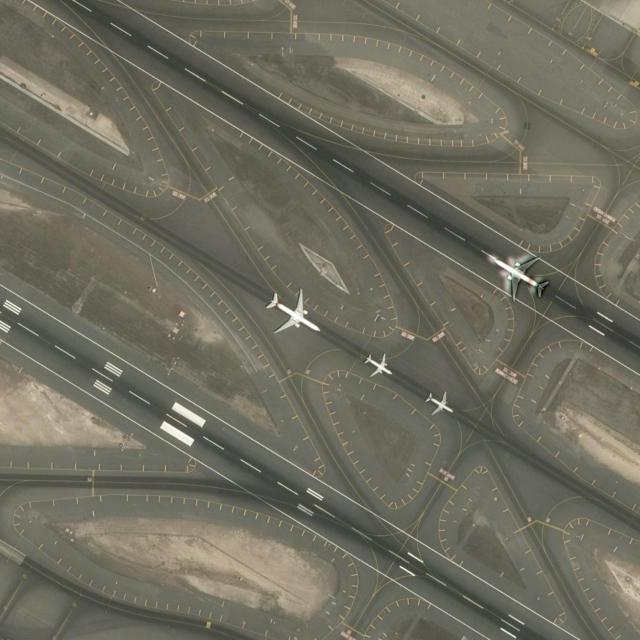Aircraft: (483, 251, 552, 302), (262, 287, 320, 335), (361, 350, 393, 382), (424, 389, 454, 417)
